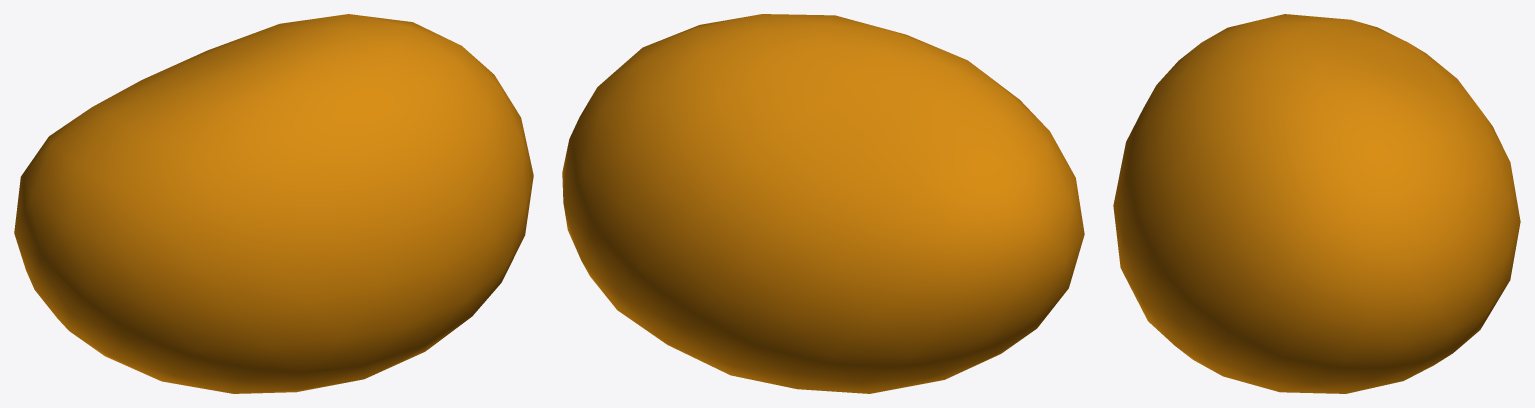
The model's file is Potato.fbx.
3 views of the same model, side by side, from view 1: azimuth 30°, elevation 25°; view 2: azimuth 150°, elevation 25°; view 3: azimuth 270°, elevation 25° (orthographic). The views are drawn at different scales.
Visible parts, largest first — view 1: Potato; view 2: Potato; view 3: Potato.
Part boxes in pixels (x1=…): Potato: x1=14, y1=14, x2=533, y2=393; Potato: x1=562, y1=14, x2=1084, y2=393; Potato: x1=1113, y1=14, x2=1520, y2=393.
Size of the model in its own units: 215 by 133 by 162.
